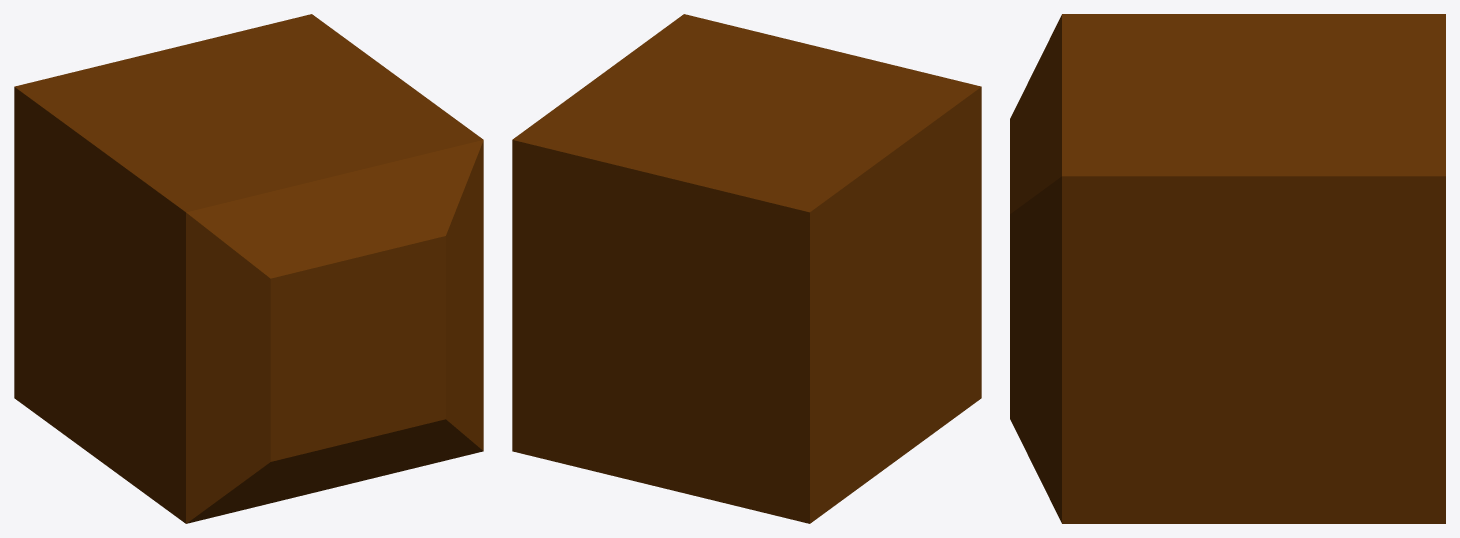
File: block1.fbx
3 renders of one model, left to right at view 1: azimuth 30°, elevation 25°; view 2: azimuth 150°, elevation 25°; view 3: azimuth 270°, elevation 25°, orthographic. The views are drawn at different scales.
Parts seen in each view (by area): view 1: 立方体; view 2: 立方体; view 3: 立方体.
Part boxes in pixels (x1=…): 立方体: x1=14, y1=14, x2=483, y2=523; 立方体: x1=512, y1=14, x2=981, y2=523; 立方体: x1=1010, y1=14, x2=1445, y2=523.
Size of the model in its own units: 200 by 200 by 227.
